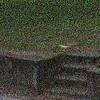stairs: (38, 51, 100, 100)
